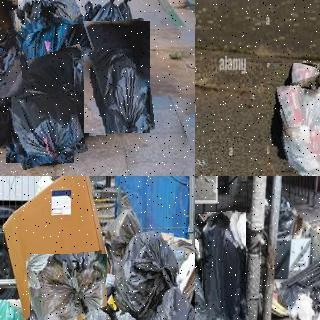Garbage: (0, 48, 81, 166), (81, 20, 153, 135), (259, 50, 320, 176), (112, 231, 180, 320), (27, 252, 109, 320), (10, 0, 90, 68), (200, 211, 249, 320), (0, 41, 20, 147), (0, 0, 21, 100), (23, 0, 82, 28), (175, 242, 195, 320), (0, 297, 34, 320)
